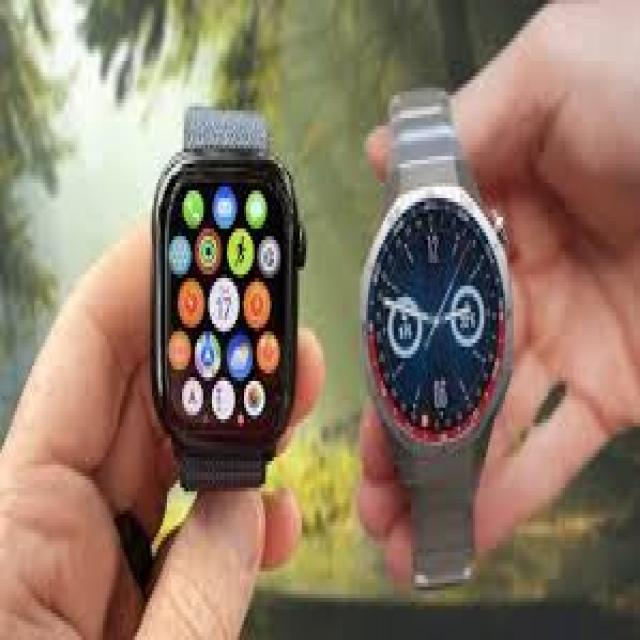objects: (360, 91, 509, 583), (152, 107, 308, 488)
